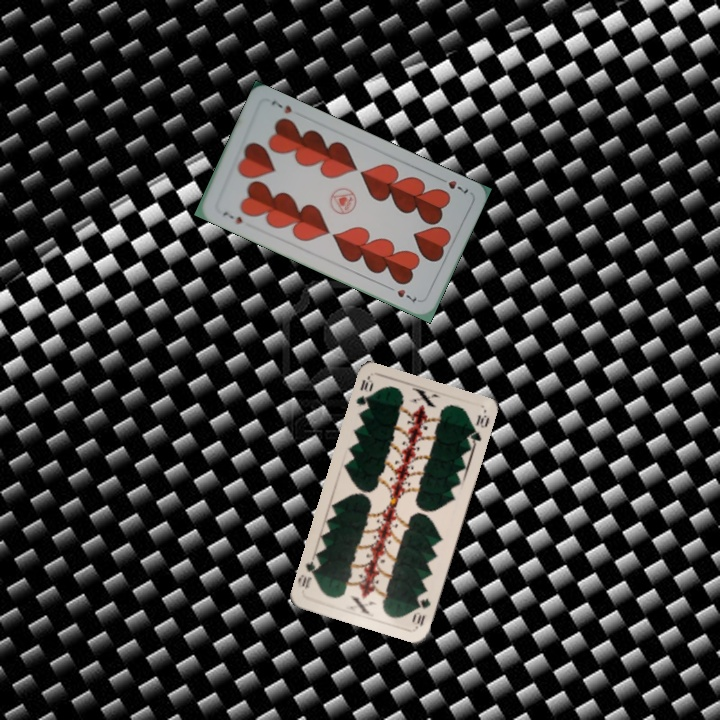G10: (352, 374, 376, 415), (409, 594, 433, 629)
H7: (434, 173, 471, 197), (219, 207, 245, 227)
